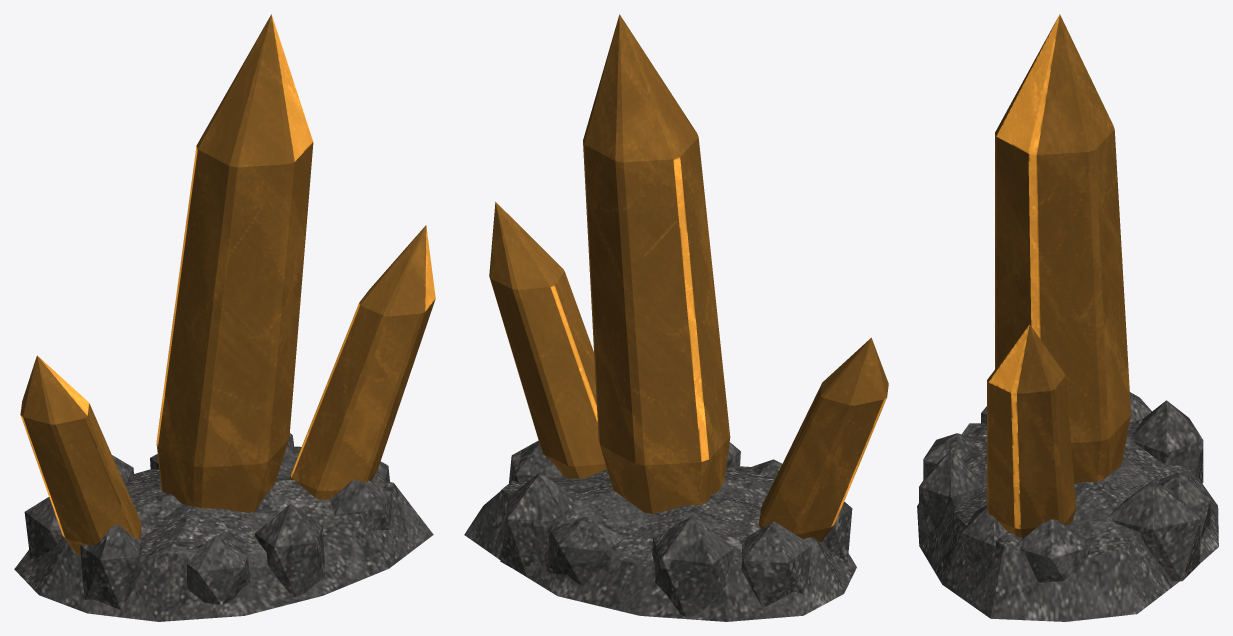
File: ore_cluster_01_needle.glb
3 views of the same model, side by side, from view 1: azimuth 30°, elevation 25°; view 2: azimuth 150°, elevation 25°; view 3: azimuth 270°, elevation 25° (orthographic). The views are drawn at different scales.
Visible parts, largest first — view 1: ore_cluster_01_needle; view 2: ore_cluster_01_needle; view 3: ore_cluster_01_needle.
Part boxes in pixels (x1,y1,x2,y2): ore_cluster_01_needle: [14, 14, 435, 621]; ore_cluster_01_needle: [464, 14, 888, 621]; ore_cluster_01_needle: [917, 14, 1218, 621].
Bounding box in the file's own units: 15.93 × 20 × 10.12.
Materials: 3 (3 with a texture image).
